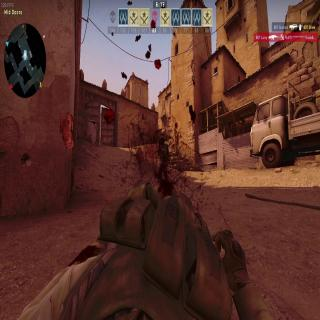T-Body: (158, 136, 170, 180)
T-Head: (158, 135, 164, 145)
